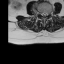CCS_stenosis: (43, 10, 45, 19)
LFS_normal: (47, 9, 50, 16)
LLS_normal: (45, 10, 47, 18)
RFS_normal: (38, 9, 41, 16)
RLS_normal: (41, 10, 43, 18)
